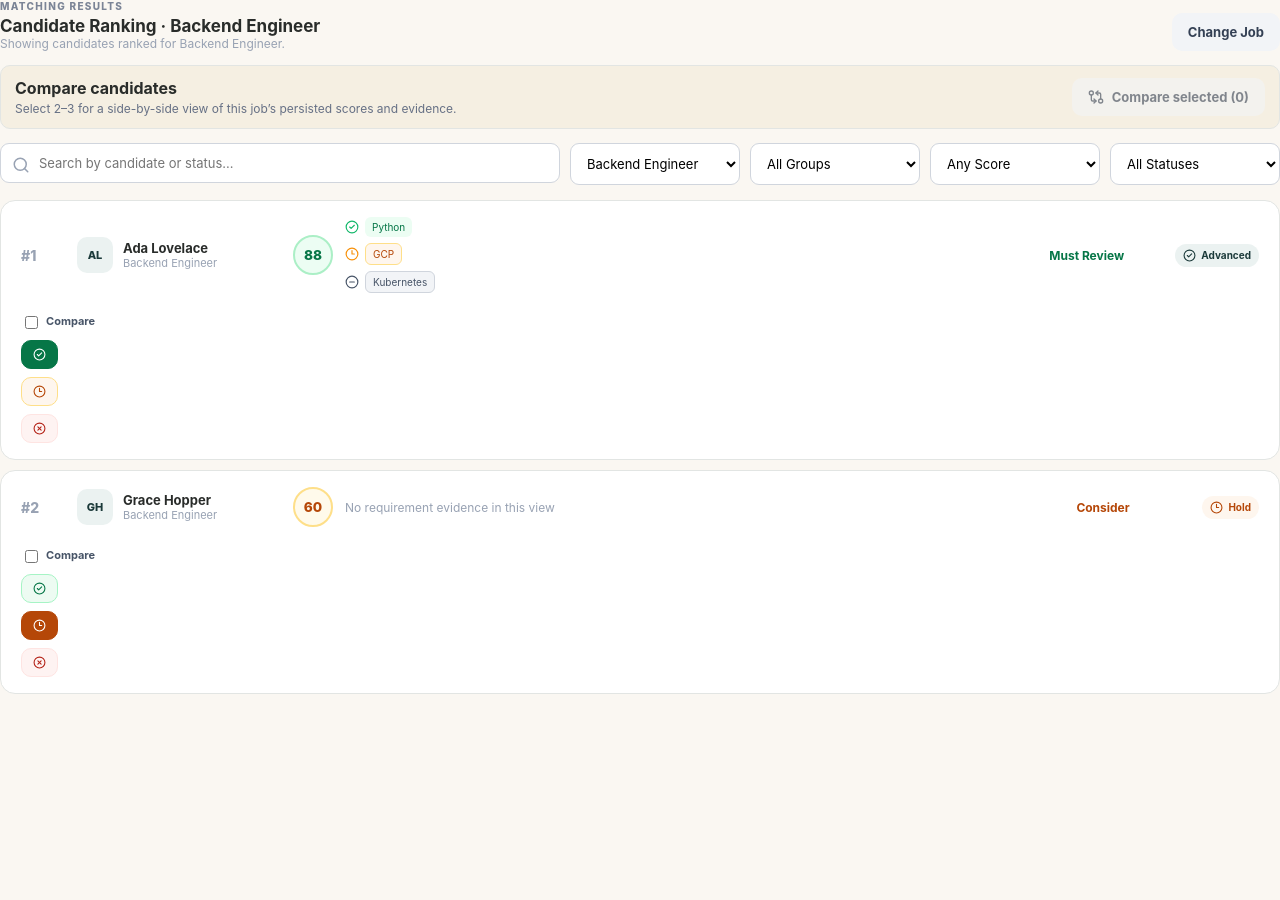
Test: MatchingResults fidelity: real backend-derived data › compares selected same-job candidates using persisted evidence and scores
What coordinates should you click on to do the following:
click the checkbox named "Select Ada Lovelace for comparison"
I would click on:
 (32, 322)
Its box is [25,316,38,329].
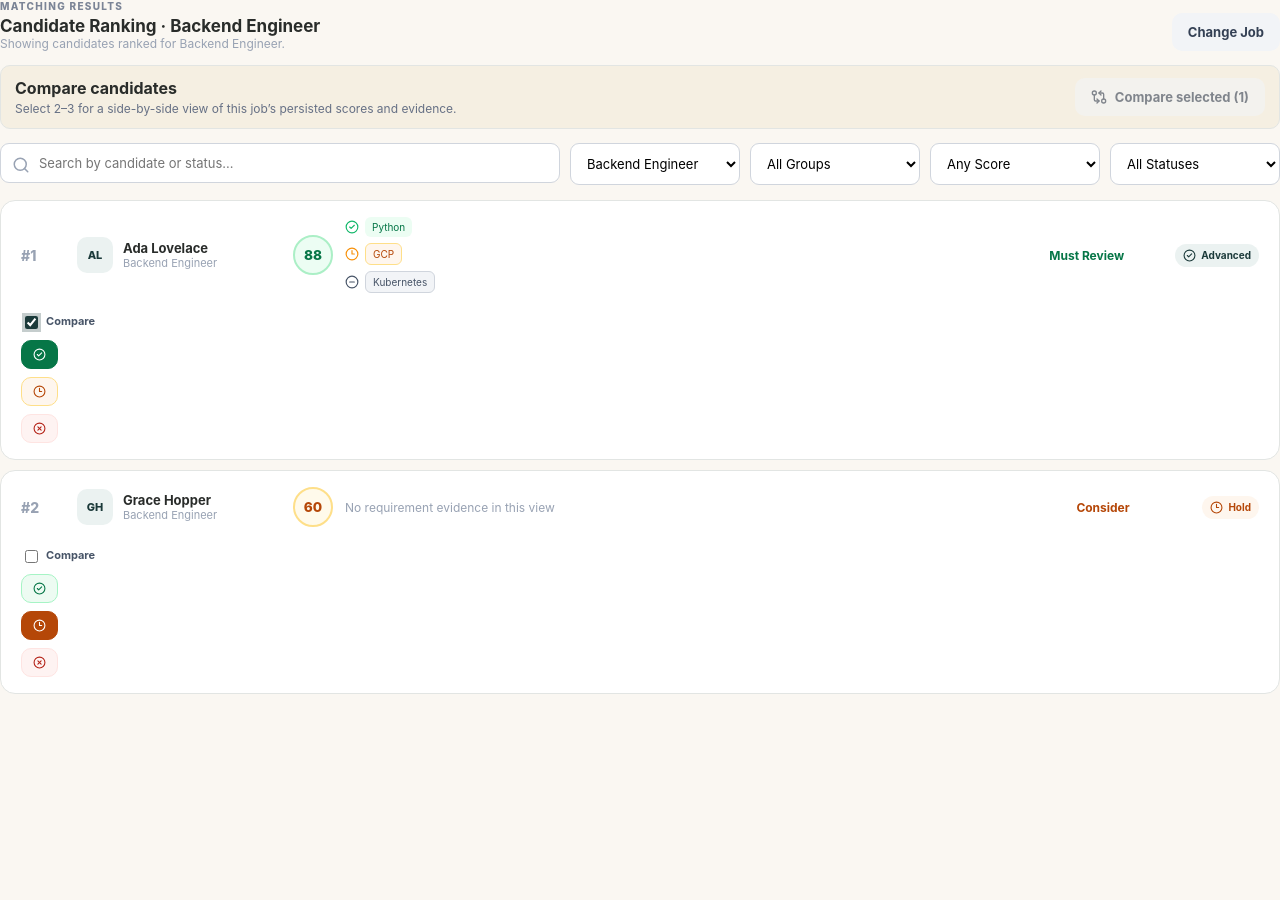
What coordinates should you click on to do the following:
click the checkbox named "Select Grace Hopper for comparison"
I would click on:
 (32, 556)
Its box is [25,550,38,563].
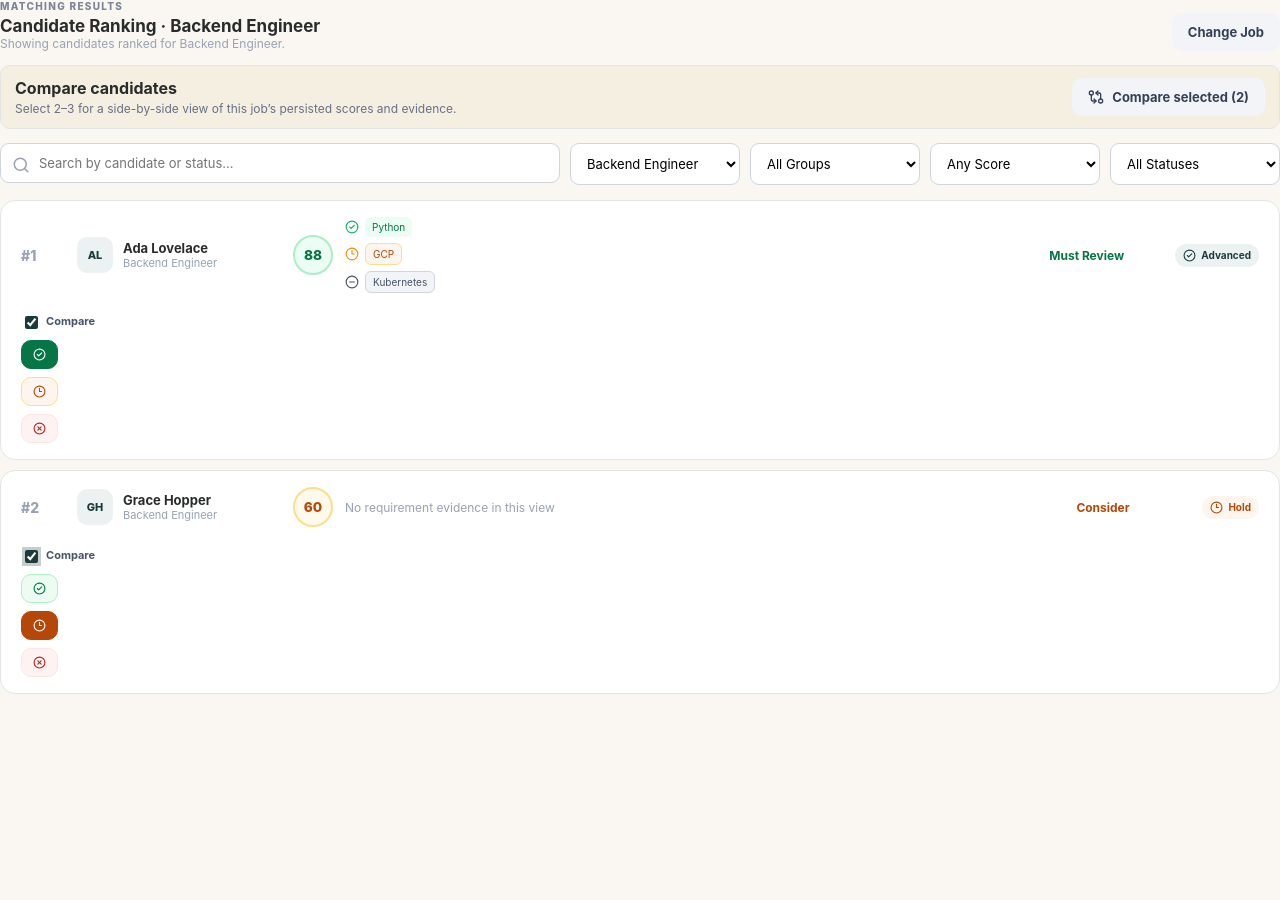
What coordinates should you click on to do the following:
click the button "Compare selected (2)"
I would click on:
 (1169, 97)
Its box is [1072,78,1265,116].
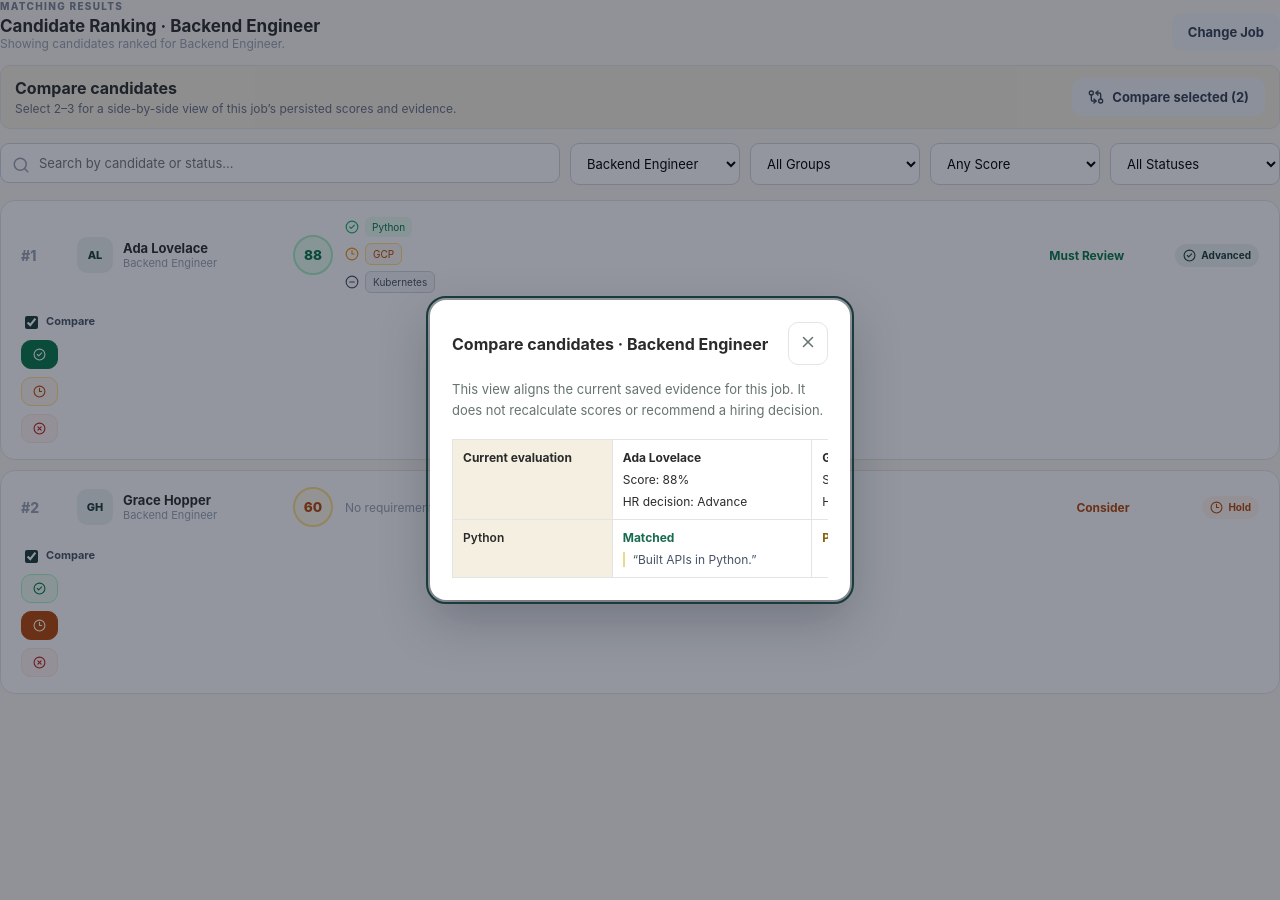
Expected: the heading "Compare candidates · Backend Engineer" is shown, [452,334,768,354]
Expected: the text "Ada Lovelace" is shown, [623,450,701,465]
Expected: the text "Score: 88%" is shown, [623,472,689,487]
